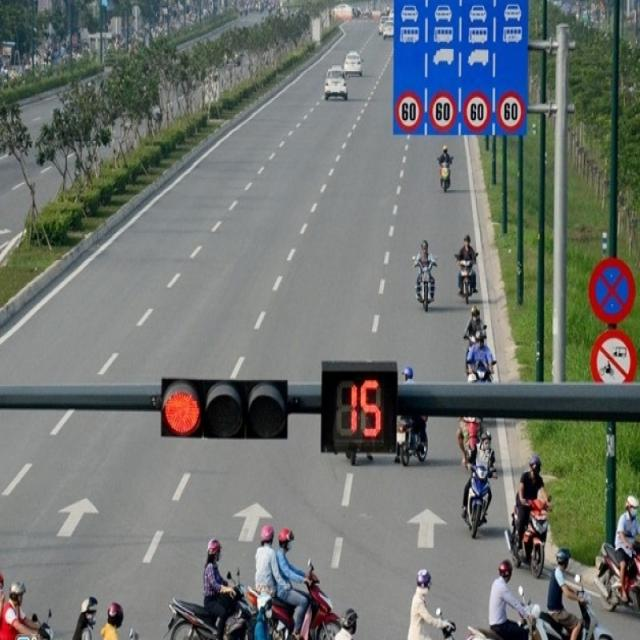car: (323, 69, 348, 104), (346, 53, 363, 75)
motobyte: (255, 525, 339, 639), (168, 539, 251, 639), (539, 564, 613, 639), (469, 561, 540, 639), (595, 506, 639, 611), (512, 458, 546, 571), (469, 434, 496, 537), (414, 244, 440, 309), (457, 237, 478, 302)
